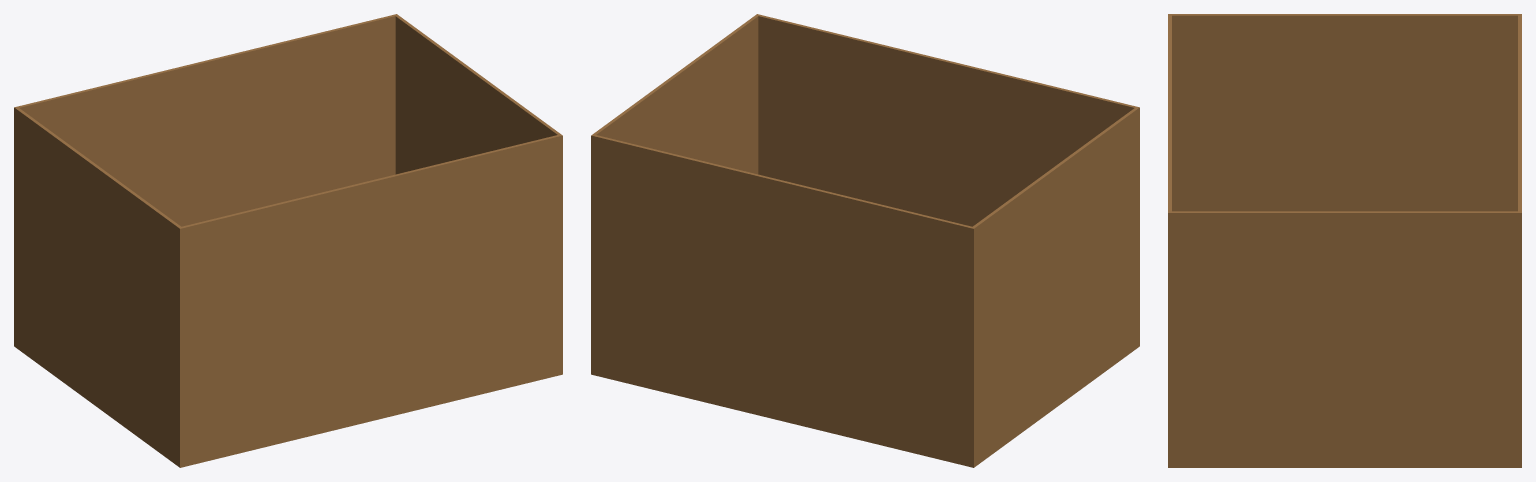
Rendered from CardboardBoxBase 1.fbx.
3 views of the same model, side by side, from view 1: azimuth 30°, elevation 25°; view 2: azimuth 150°, elevation 25°; view 3: azimuth 270°, elevation 25° (orthographic). The views are drawn at different scales.
Parts seen in each view (by area): view 1: Box; view 2: Box; view 3: Box.
Part boxes in pixels (x1,y1,x2,y2): Box: [14, 14, 562, 467]; Box: [591, 14, 1139, 467]; Box: [1168, 14, 1521, 467].
Bounding box in the file's own units: 85.69 × 51.15 × 64.38.
